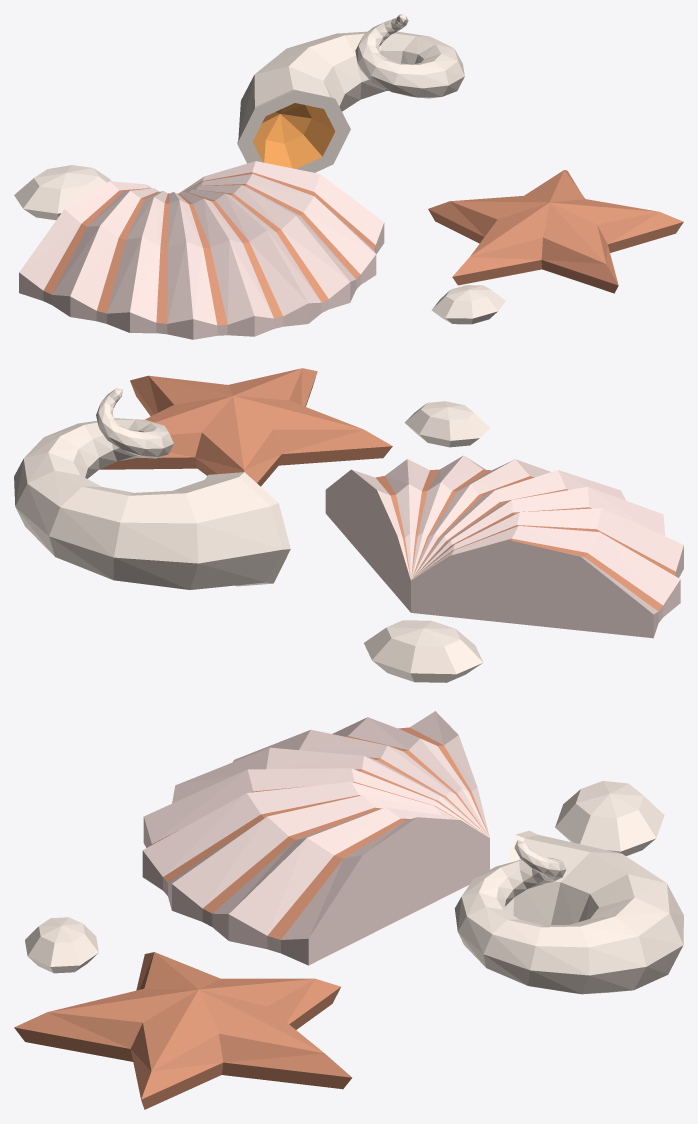
Rendered from beachShells.glb.
3 renders of one model, top to bottom at view 1: azimuth 30°, elevation 25°; view 2: azimuth 150°, elevation 25°; view 3: azimuth 270°, elevation 25°, orthographic. The views are drawn at different scales.
Parts seen in each view (by area): view 1: beachShells; view 2: beachShells; view 3: beachShells.
Part boxes in pixels (<box>): beachShells: <box>14,14,683,339</box>; beachShells: <box>14,368,683,682</box>; beachShells: <box>14,711,683,1109</box>.
Size of the model in its own units: 0.7343 by 0.1802 by 0.5869.
Materials: 1 (1 with a texture image).
